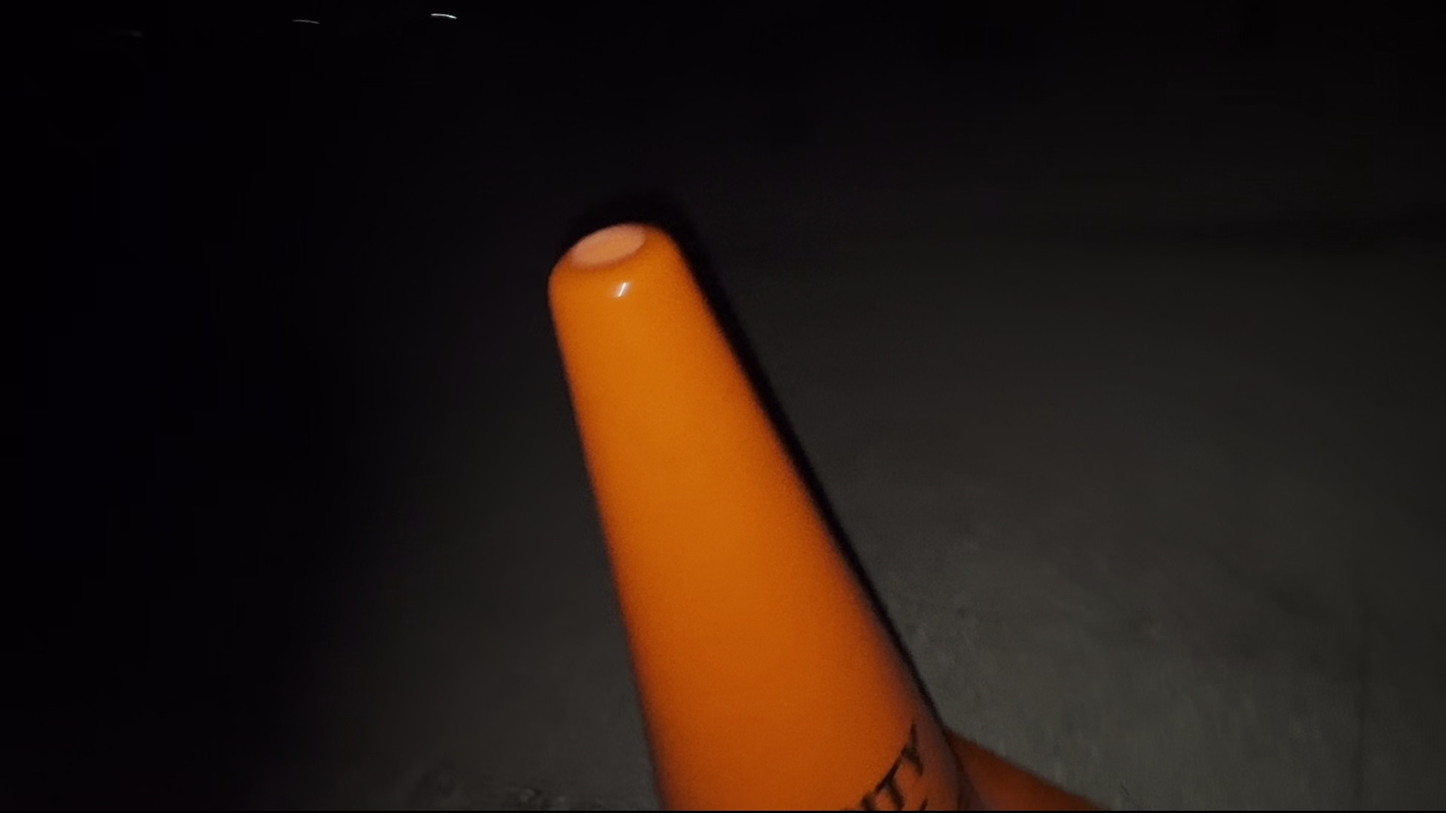traffic_cone: (545, 218, 1096, 811), (545, 219, 979, 811)
